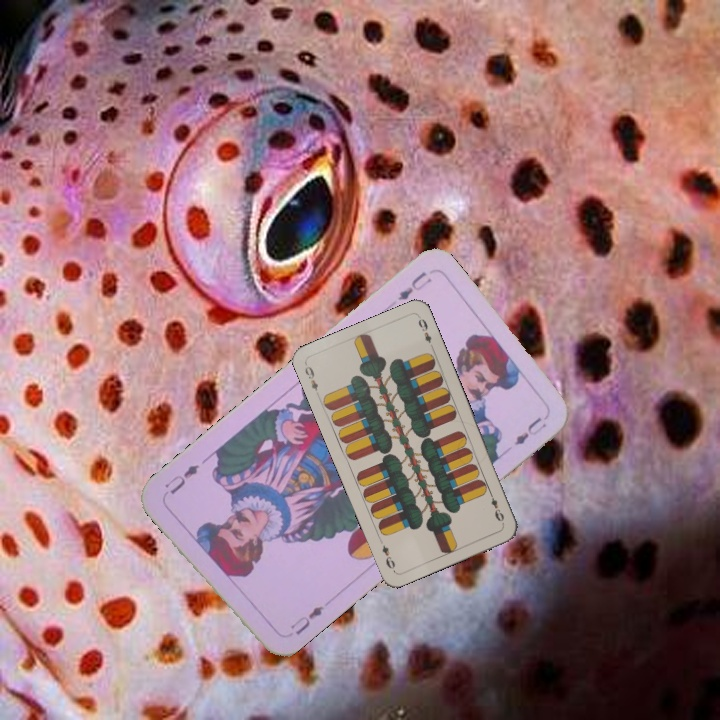E9: (300, 362, 322, 399), (485, 488, 507, 524)
EU: (393, 267, 434, 304), (286, 601, 326, 638)
